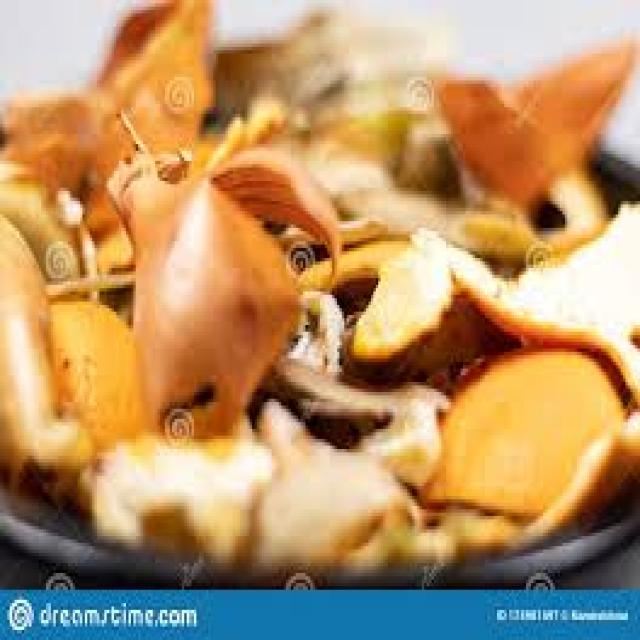food_waste: (0, 0, 638, 570)
